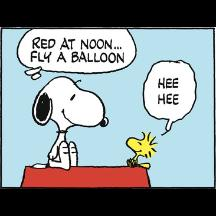snoopy: (32, 76, 108, 172)
